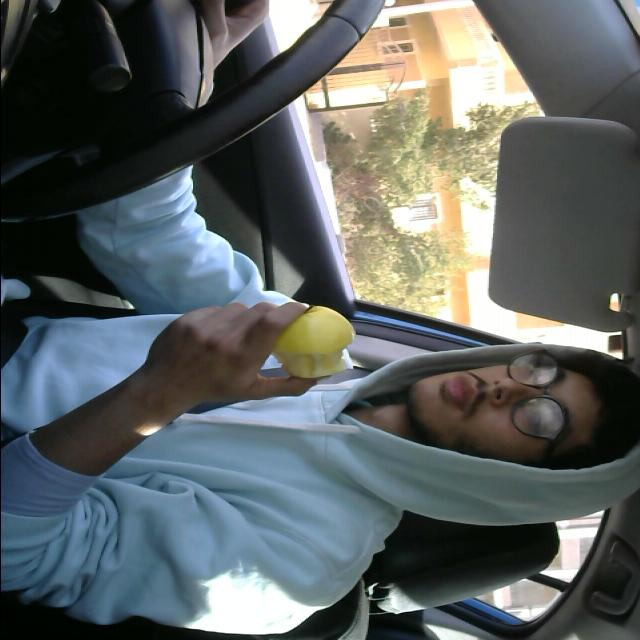eating: (266, 296, 368, 382)
